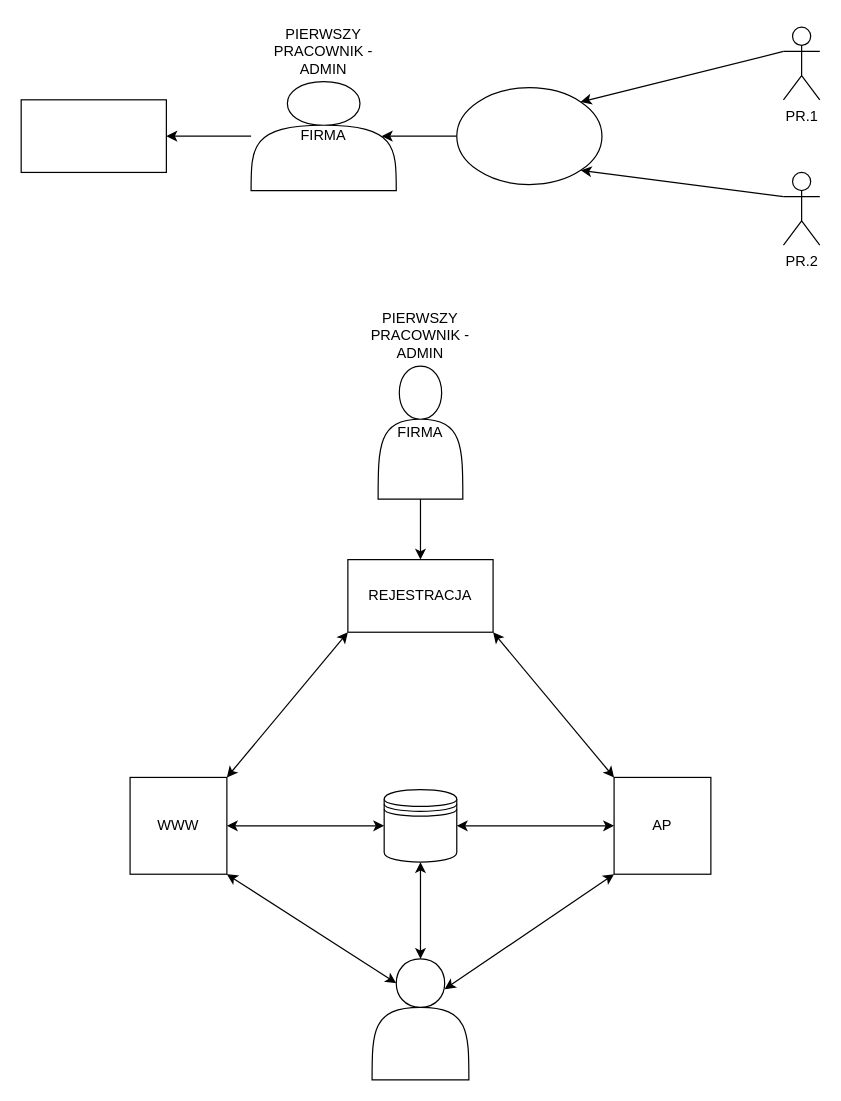
This 841x1101 diagram has some shape labels left out. The centre of each missing label's shape, as x and y in pixels:
ADMIN: point (420, 1019)
DB: point (420, 825)
DOSTĘP DO PROGRAMU: point (93, 135)
ZATWIERDZENIE PRZEZ ADMINA: point (529, 136)
